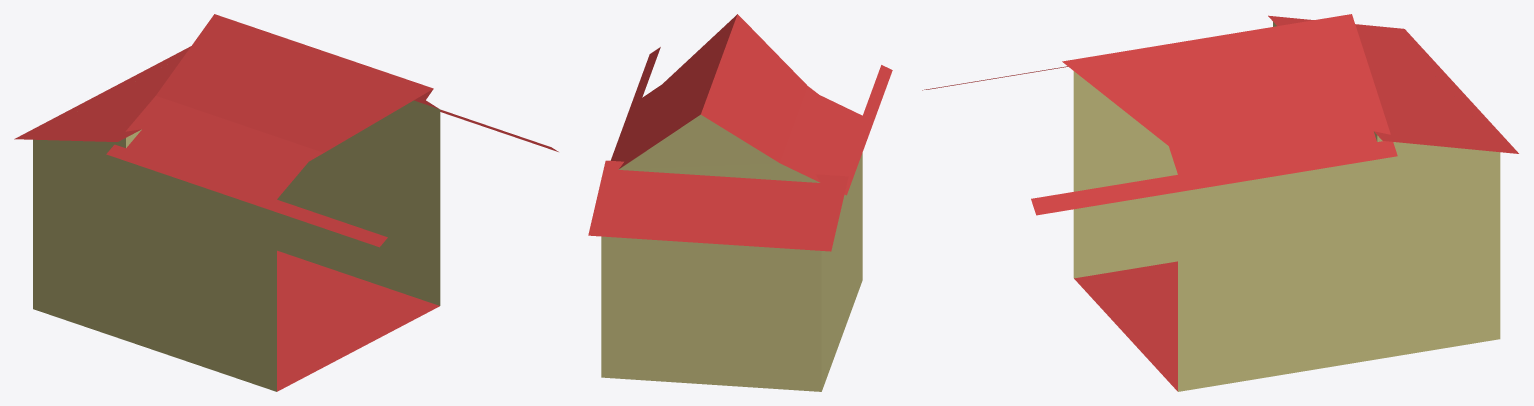
3 renders of one model, left to right at view 1: azimuth 30°, elevation 25°; view 2: azimuth 150°, elevation 25°; view 3: azimuth 270°, elevation 25°, orthographic. The views are drawn at different scales.
Bounding box in the file's own units: 16.3 × 20.16 × 11.1.
